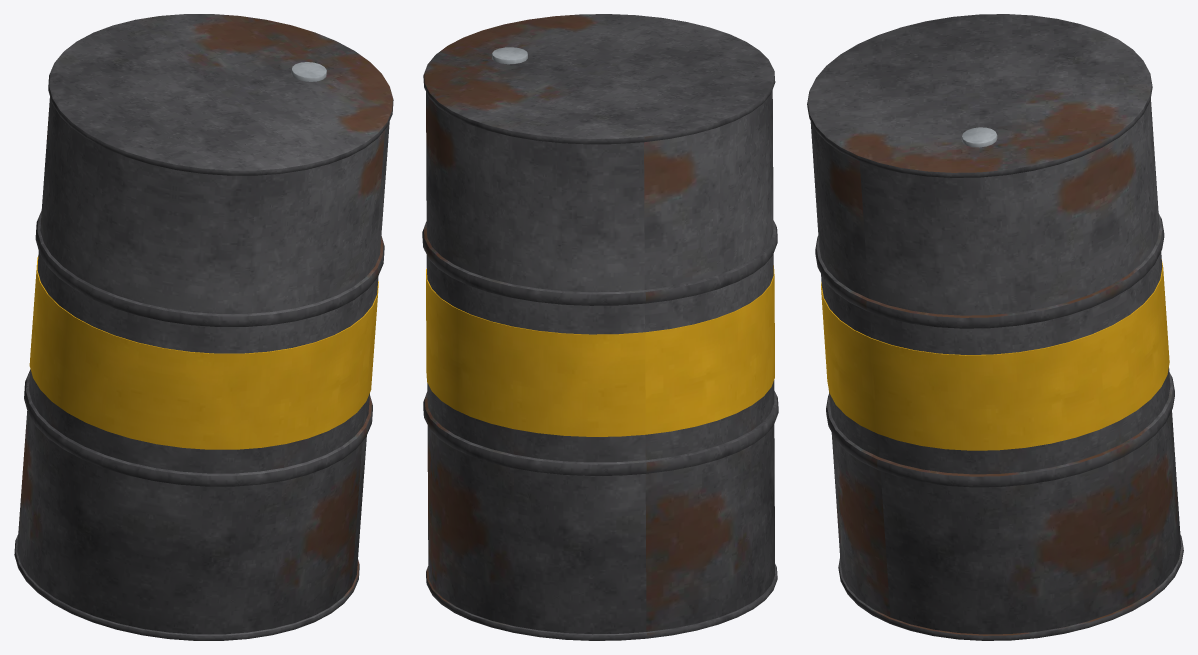
File: PAV-ASF-001_anim.glb
3 renders of one model, left to right at view 1: azimuth 30°, elevation 25°; view 2: azimuth 150°, elevation 25°; view 3: azimuth 270°, elevation 25°, orthographic.
Visible parts, largest first — view 1: PAV-ASF-001_anim0; view 2: PAV-ASF-001_anim0; view 3: PAV-ASF-001_anim0.
Part boxes in pixels (left/top/right/bottom): PAV-ASF-001_anim0: left=14, top=14, right=393, bottom=640; PAV-ASF-001_anim0: left=422, top=14, right=778, bottom=640; PAV-ASF-001_anim0: left=807, top=14, right=1183, bottom=640.
Bounding box in the file's own units: 0.6146 × 0.9259 × 0.6317.
3 materials, 3 textured.
